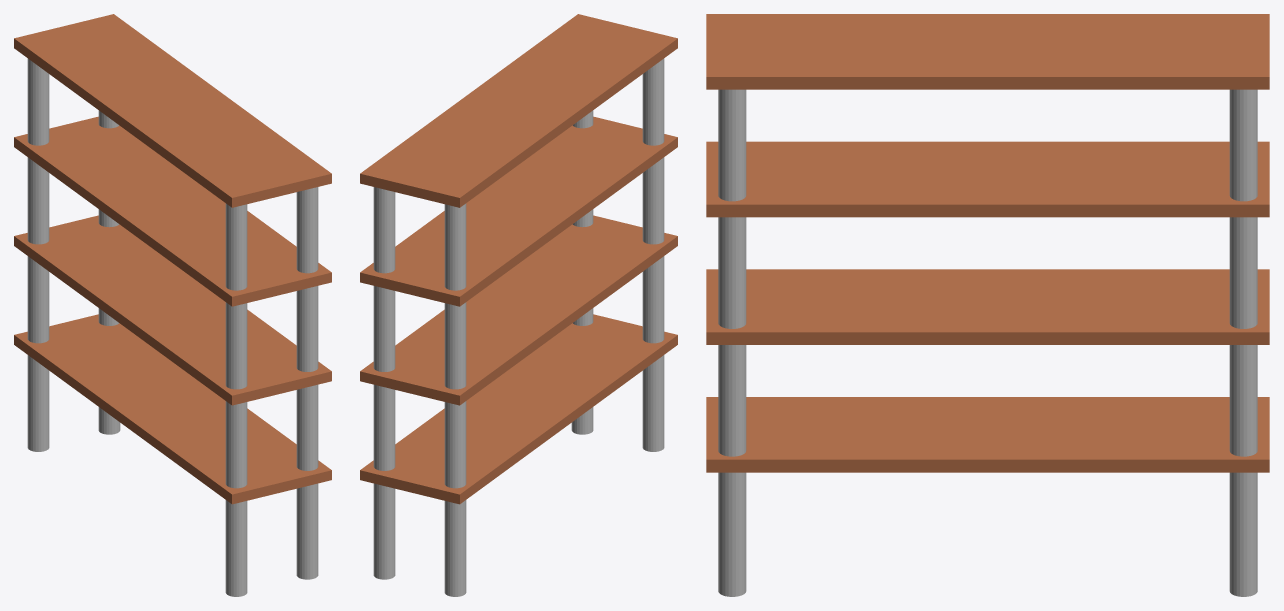
Rendered from shelf.fbx.
The picture shows the model from 3 angles, left to right: view 1: azimuth 30°, elevation 25°; view 2: azimuth 150°, elevation 25°; view 3: azimuth 270°, elevation 25°; orthographic projection. The views are drawn at different scales.
Visible parts, largest first — view 1: Plane.003, Pole, Plane.002, Plane, Plane.001; view 2: Plane.003, Pole, Plane.002, Plane, Plane.001; view 3: Plane.003, Plane.002, Plane, Plane.001, Pole.
Boxes of the visible parts, <box> form: Plane.003: <box>14,14,331,207</box>; Pole: <box>27,58,318,596</box>; Plane.002: <box>14,116,331,306</box>; Plane: <box>14,314,331,504</box>; Plane.001: <box>14,215,331,405</box>; Plane.003: <box>360,14,677,207</box>; Pole: <box>373,58,664,596</box>; Plane.002: <box>360,116,677,306</box>; Plane: <box>360,314,677,504</box>; Plane.001: <box>360,215,677,405</box>; Plane.003: <box>706,14,1269,89</box>; Plane.002: <box>706,141,1269,217</box>; Plane: <box>706,397,1269,472</box>; Plane.001: <box>706,269,1269,344</box>; Pole: <box>718,89,1257,596</box>.
Bounding box in the file's own units: 52.84 × 205 × 200.
